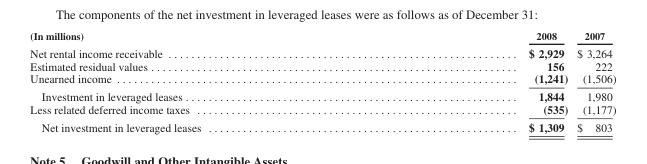table: (29, 29, 615, 133)
table column: (29, 29, 364, 133), (364, 29, 571, 133), (571, 29, 615, 133)
table column header: (29, 29, 615, 43)
table row: (29, 43, 615, 59), (29, 71, 615, 87), (29, 117, 615, 133), (29, 87, 615, 102), (29, 102, 615, 117), (29, 29, 615, 43), (29, 59, 615, 71)
